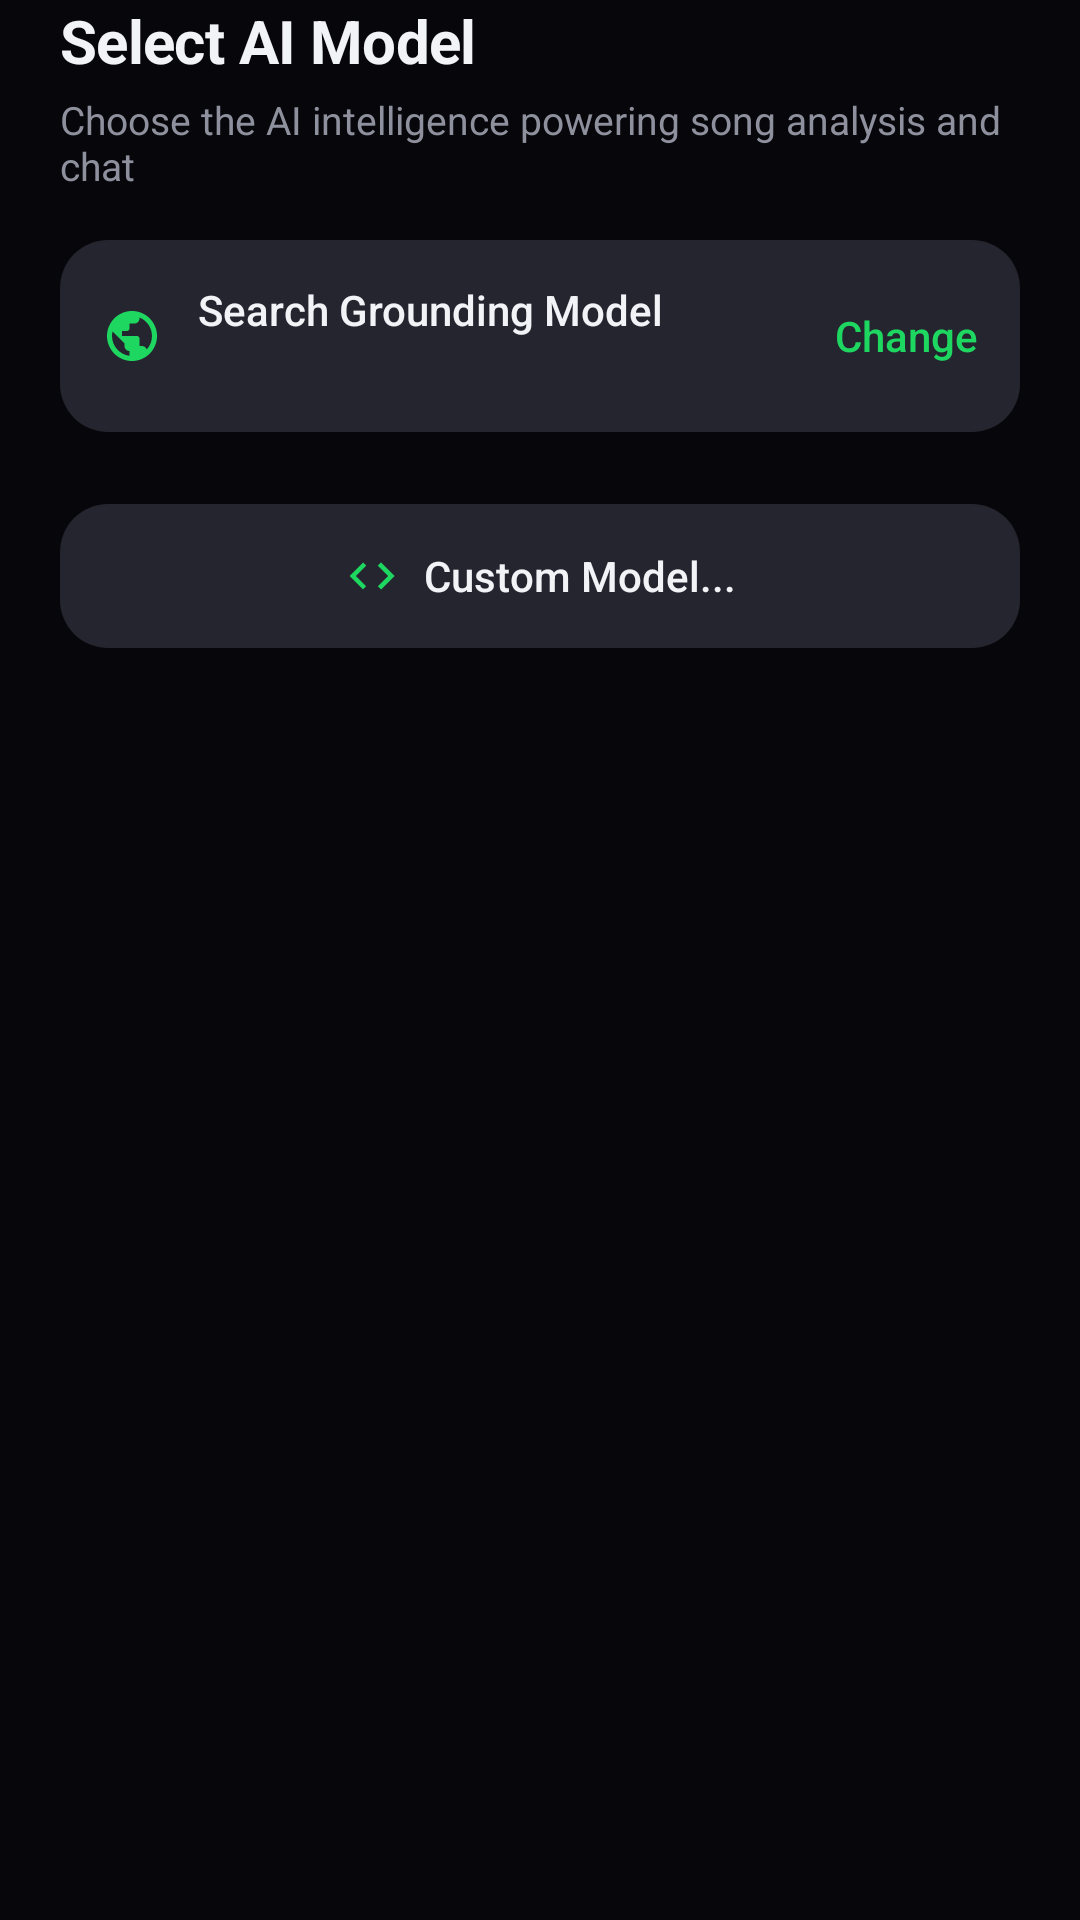

Named icons in this screenshot (1080 x 1920) and their bounding boxes, {"left": x1, "top": y1, "right": x2, "bottom": y2}:
search globe: {"left": 107, "top": 311, "right": 157, "bottom": 361}
